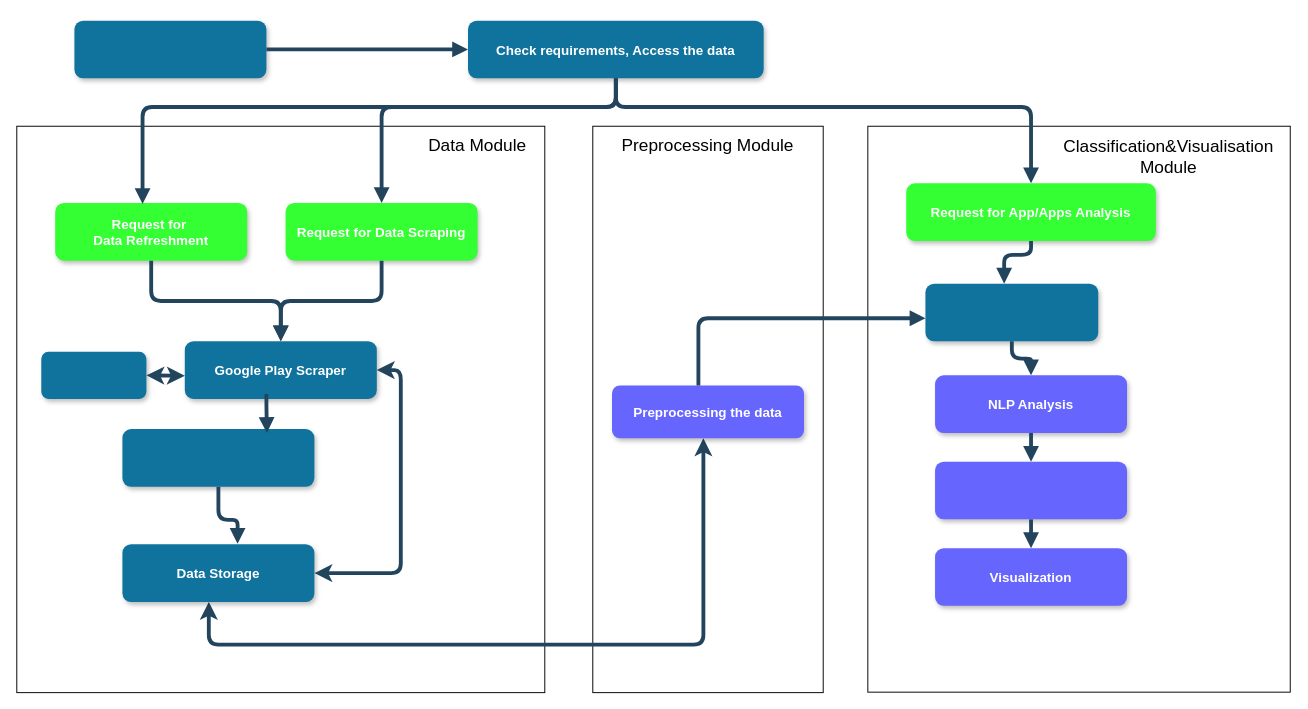
This 1308x709 diagram has some shape labels left out. Each missing label, with the centre of its shape:
"Data Classification" goes at point 1031,491.
"Data Gathering" goes at point 219,459.
"Get Data" goes at point 1012,313.
"Google Play API" goes at point 94,376.
"START" goes at point 171,50.
